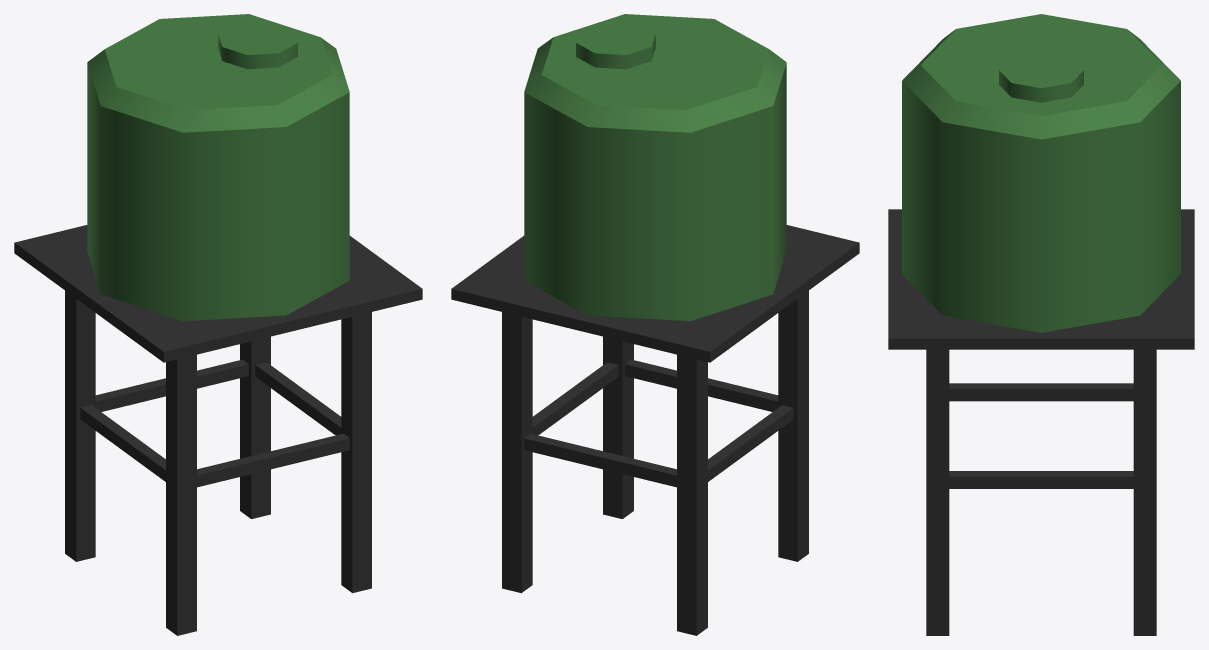
File: watertank.fbx
3 views of the same model, side by side, from view 1: azimuth 30°, elevation 25°; view 2: azimuth 150°, elevation 25°; view 3: azimuth 270°, elevation 25° (orthographic). The views are drawn at different scales.
Parts seen in each view (by area): view 1: Cube.034; view 2: Cube.034; view 3: Cube.034.
Boxes of the visible parts, bbox=[...] form: Cube.034: bbox=[14, 14, 422, 635]; Cube.034: bbox=[451, 14, 859, 635]; Cube.034: bbox=[888, 14, 1194, 635].
Size of the model in its own units: 319 by 617 by 319.
